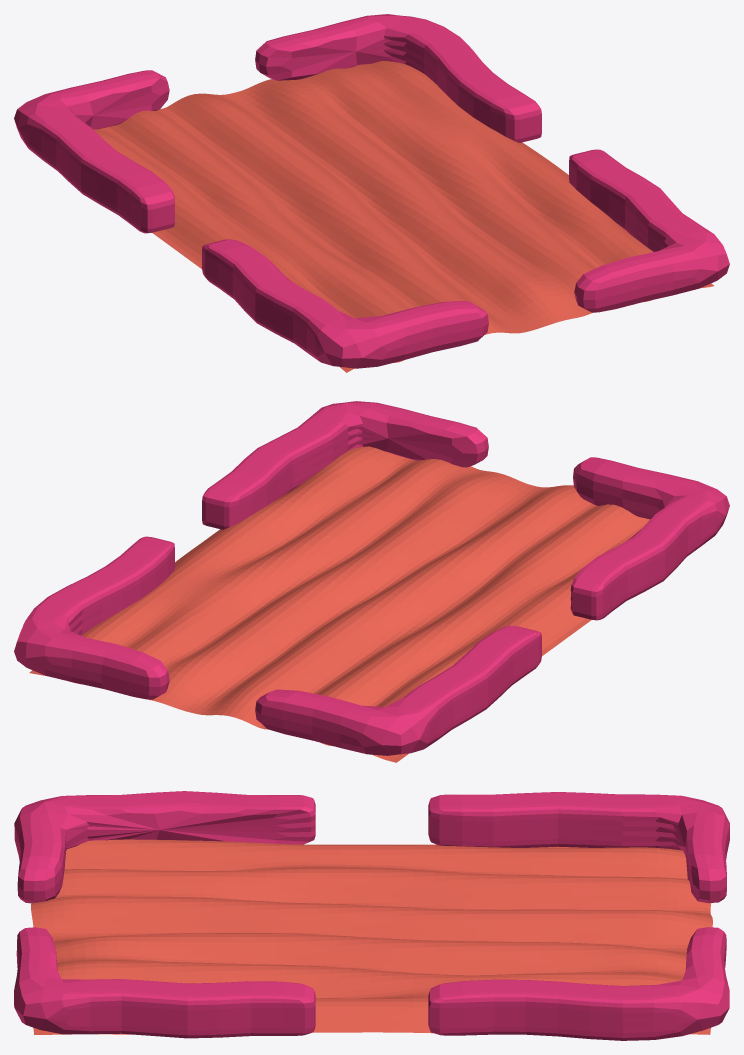
The model's file is First Room.fbx.
3 views of the same model, one above another, from view 1: azimuth 30°, elevation 25°; view 2: azimuth 150°, elevation 25°; view 3: azimuth 270°, elevation 25° (orthographic). The views are drawn at different scales.
Parts seen in each view (by area): view 1: Plane, Cube.001, Cube, Cube.002, Cube.003; view 2: Plane, Cube.002, Cube.003, Cube.001, Cube; view 3: Plane, Cube, Cube.003, Cube.002, Cube.001.
Part boxes in pixels (bbox=[...]): Plane: bbox=[93, 61, 713, 372]; Cube.001: bbox=[202, 239, 488, 368]; Cube: bbox=[255, 14, 541, 142]; Cube.002: bbox=[14, 70, 174, 233]; Cube.003: bbox=[569, 149, 729, 312]; Plane: bbox=[29, 446, 650, 762]; Cube.002: bbox=[255, 625, 541, 755]; Cube.003: bbox=[202, 401, 488, 529]; Cube.001: bbox=[570, 457, 729, 620]; Cube: bbox=[14, 536, 174, 699]; Plane: bbox=[31, 839, 712, 1034]; Cube: bbox=[428, 927, 729, 1040]; Cube.003: bbox=[14, 927, 315, 1038]; Cube.002: bbox=[428, 792, 729, 903]; Cube.001: bbox=[14, 791, 315, 903].
Size of the model in its own units: 22.47 by 2.2 by 31.77.
